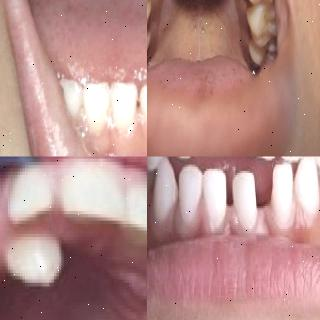maligned: (0, 235, 69, 295), (2, 164, 50, 226)
